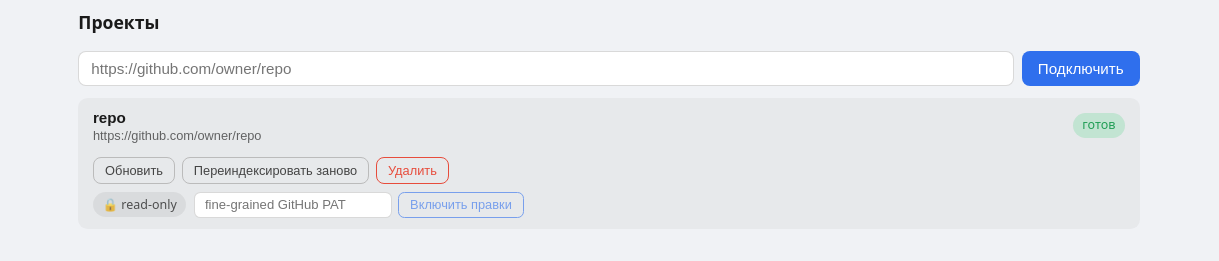
Test: ProjectsPanel › провал включения правок показывает ошибку и не хранит токен
Type "bad-token" into the password field named "GitHub-токен для repo". click: x=293, y=205
box: x1=194 y1=192 x2=392 y2=218
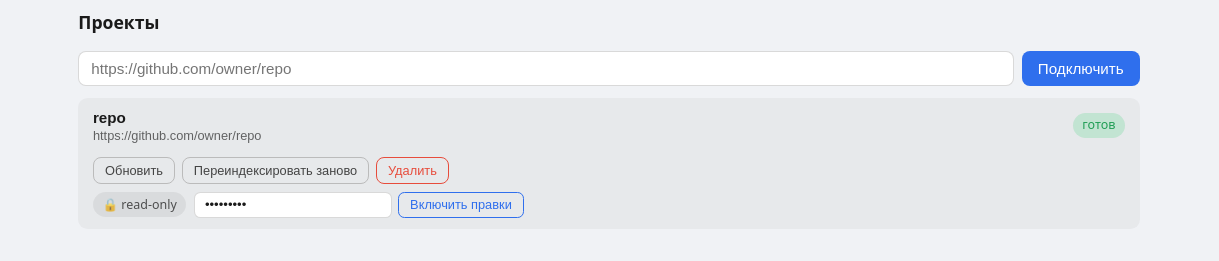
Click the button "Включить правки". click: x=461, y=205
box: x1=398 y1=192 x2=524 y2=218
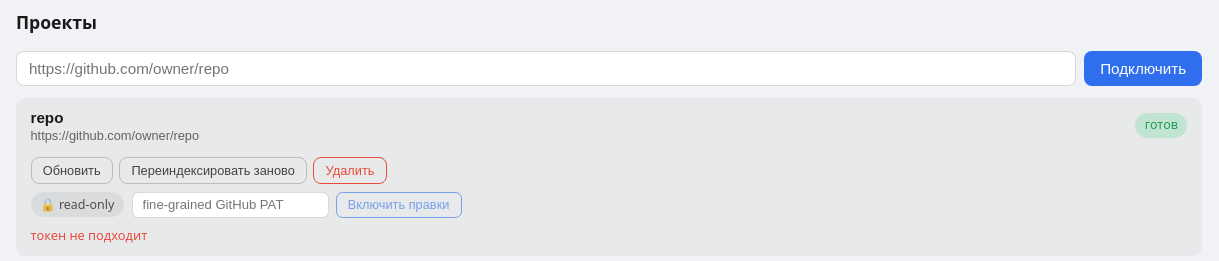
Now the text "токен не подходит" is shown, box x1=30 y1=226 x2=147 y2=244
Now the password field named "GitHub-токен для repo" is empty, box x1=132 y1=192 x2=329 y2=218
